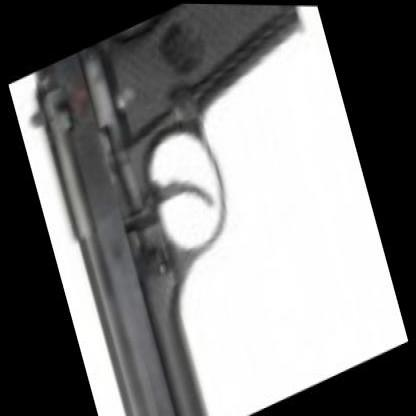pistol: (11, 0, 394, 415)
